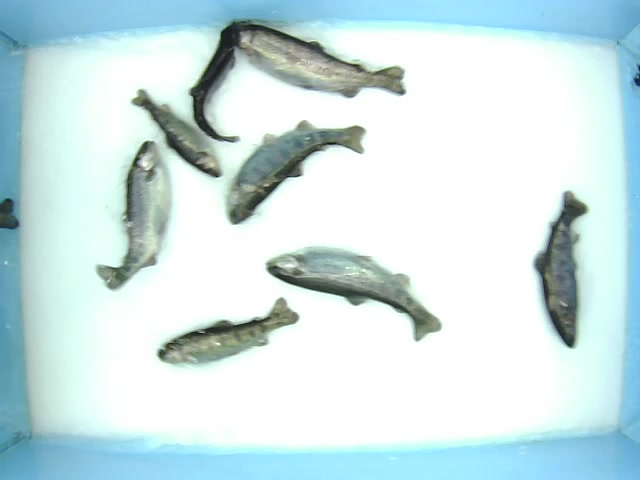fish: (263, 244, 443, 345), (221, 119, 371, 225), (229, 20, 409, 101), (93, 139, 172, 291), (154, 293, 300, 370), (532, 188, 588, 350), (128, 86, 224, 180), (190, 29, 241, 143)
